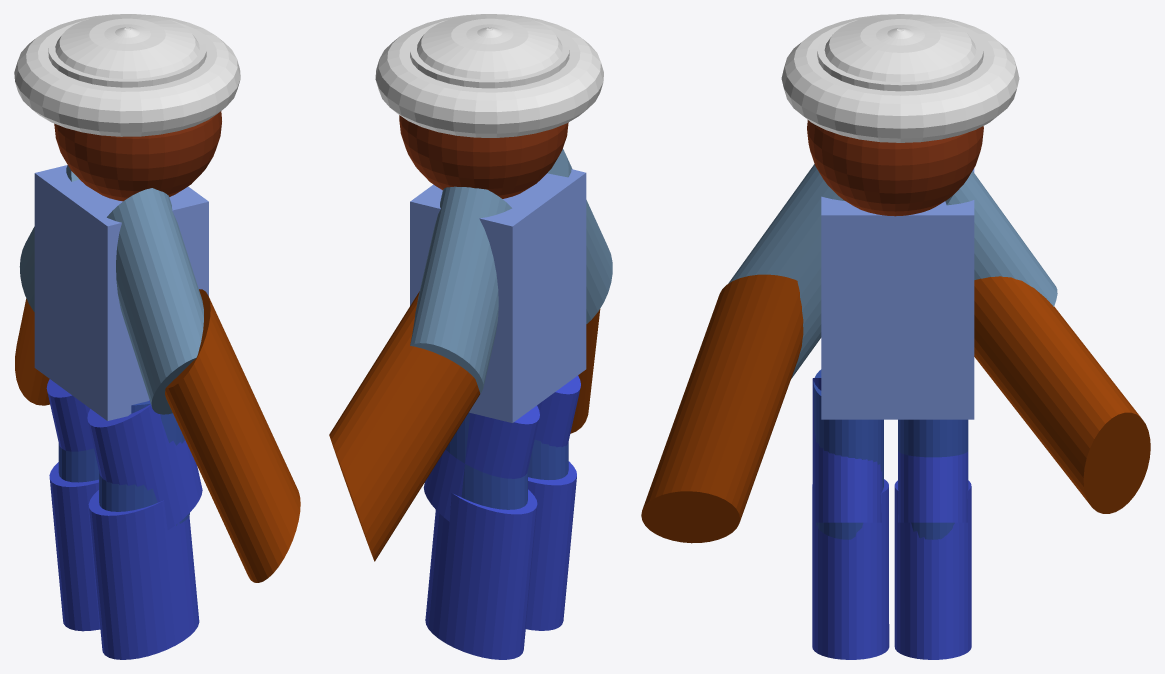
File: Cameron.B updated ver with trees.fbx
3 views of the same model, side by side, from view 1: azimuth 30°, elevation 25°; view 2: azimuth 150°, elevation 25°; view 3: azimuth 270°, elevation 25° (orthographic). The views are drawn at different scales.
Parts seen in each view (by area): view 1: Cube, Torus, Cylinder.007, Cylinder.011, Cylinder.001, Sphere, Cylinder.012, Cylinder.002, Cylinder.004, Cylinder.003, Cylinder.010, Cylinder.005 (+1 smaller); view 2: Cube, Torus, Cylinder.010, Cylinder.002, Cylinder, Sphere, Cylinder.011, Cylinder.004, Cylinder.005, Cylinder.001, Cylinder.012, Cylinder.003 (+1 smaller); view 3: Cube, Cylinder.007, Torus, Cylinder.010, Sphere, Cylinder.002, Cylinder.011, Cylinder.001, Cylinder, Cylinder.012, Cylinder.004, Cylinder.003 (+1 smaller).
Boxes of the visible parts, x1=… form: Cube: x1=34, y1=165, x2=208, y2=420; Torus: x1=14, y1=14, x2=240, y2=136; Cylinder.007: x1=165, y1=289, x2=300, y2=582; Cylinder.011: x1=88, y1=490, x2=199, y2=659; Cylinder.001: x1=107, y1=188, x2=203, y2=414; Sphere: x1=54, y1=111, x2=221, y2=201; Cylinder.012: x1=87, y1=400, x2=202, y2=530; Cylinder.002: x1=49, y1=462, x2=100, y2=631; Cylinder.004: x1=46, y1=379, x2=93, y2=451; Cylinder.003: x1=99, y1=401, x2=189, y2=525; Cylinder.010: x1=15, y1=298, x2=49, y2=405; Cylinder.005: x1=58, y1=443, x2=98, y2=482; Cube: x1=410, y1=169, x2=586, y2=422; Torus: x1=375, y1=14, x2=603, y2=137; Cylinder.010: x1=329, y1=291, x2=480, y2=561; Cylinder.002: x1=425, y1=489, x2=537, y2=659; Cylinder: x1=410, y1=186, x2=511, y2=393; Sphere: x1=399, y1=115, x2=568, y2=198; Cylinder.011: x1=526, y1=461, x2=576, y2=630; Cylinder.004: x1=423, y1=405, x2=539, y2=521; Cylinder.005: x1=445, y1=412, x2=527, y2=509; Cylinder.001: x1=547, y1=149, x2=612, y2=323; Cylinder.012: x1=534, y1=375, x2=580, y2=447; Cylinder.003: x1=528, y1=439, x2=568, y2=479; Cube: x1=821, y1=168, x2=974, y2=419; Cylinder.007: x1=641, y1=274, x2=803, y2=543; Torus: x1=781, y1=14, x2=1019, y2=142; Cylinder.010: x1=974, y1=276, x2=1150, y2=513; Sphere: x1=807, y1=120, x2=983, y2=216; Cylinder.002: x1=894, y1=480, x2=971, y2=659; Cylinder.011: x1=812, y1=479, x2=889, y2=659; Cylinder.001: x1=728, y1=164, x2=844, y2=378; Cylinder: x1=945, y1=171, x2=1057, y2=306; Cylinder.012: x1=812, y1=378, x2=882, y2=522; Cylinder.004: x1=898, y1=451, x2=968, y2=522; Cylinder.003: x1=813, y1=369, x2=883, y2=539.
Bounding box in the file's own units: 240 × 698 × 514.
